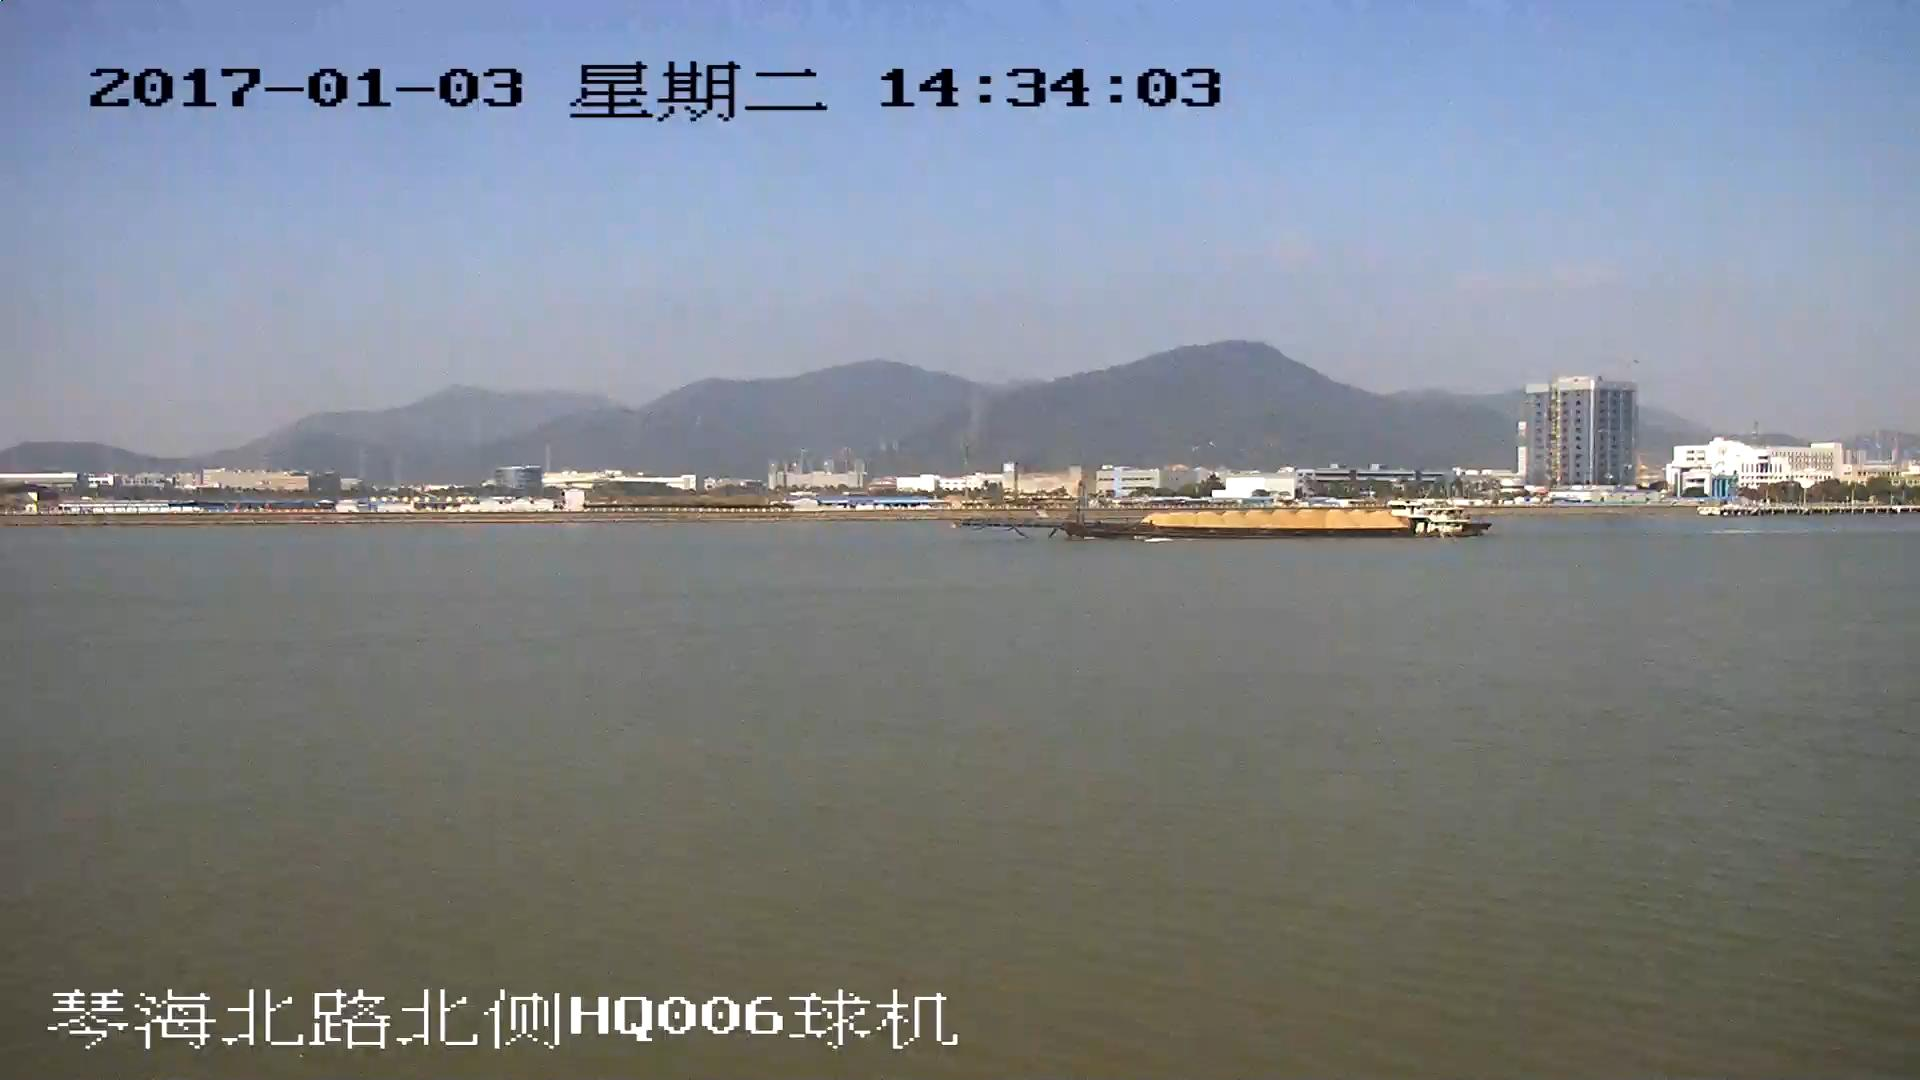ore carrier: (962, 494, 1488, 541)
